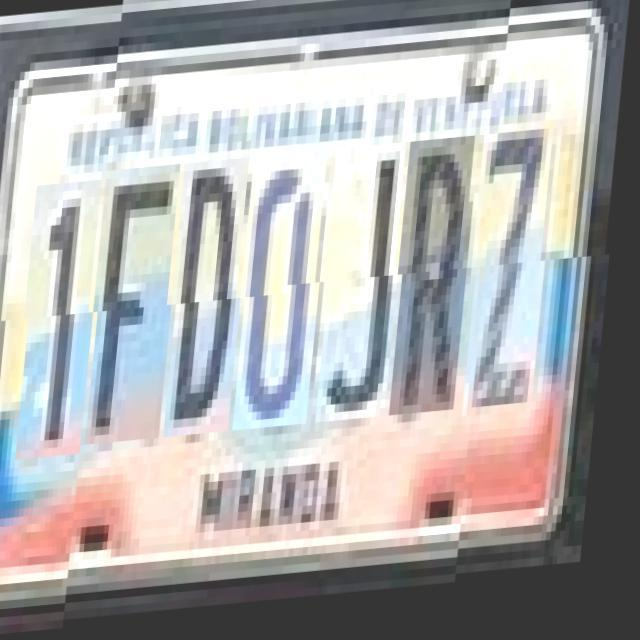0: (242, 156, 336, 436)
1: (26, 174, 110, 452)
D: (173, 162, 258, 442)
F: (95, 168, 189, 448)
J: (324, 150, 414, 430)
R: (398, 146, 484, 424)
Z: (472, 139, 562, 427)
